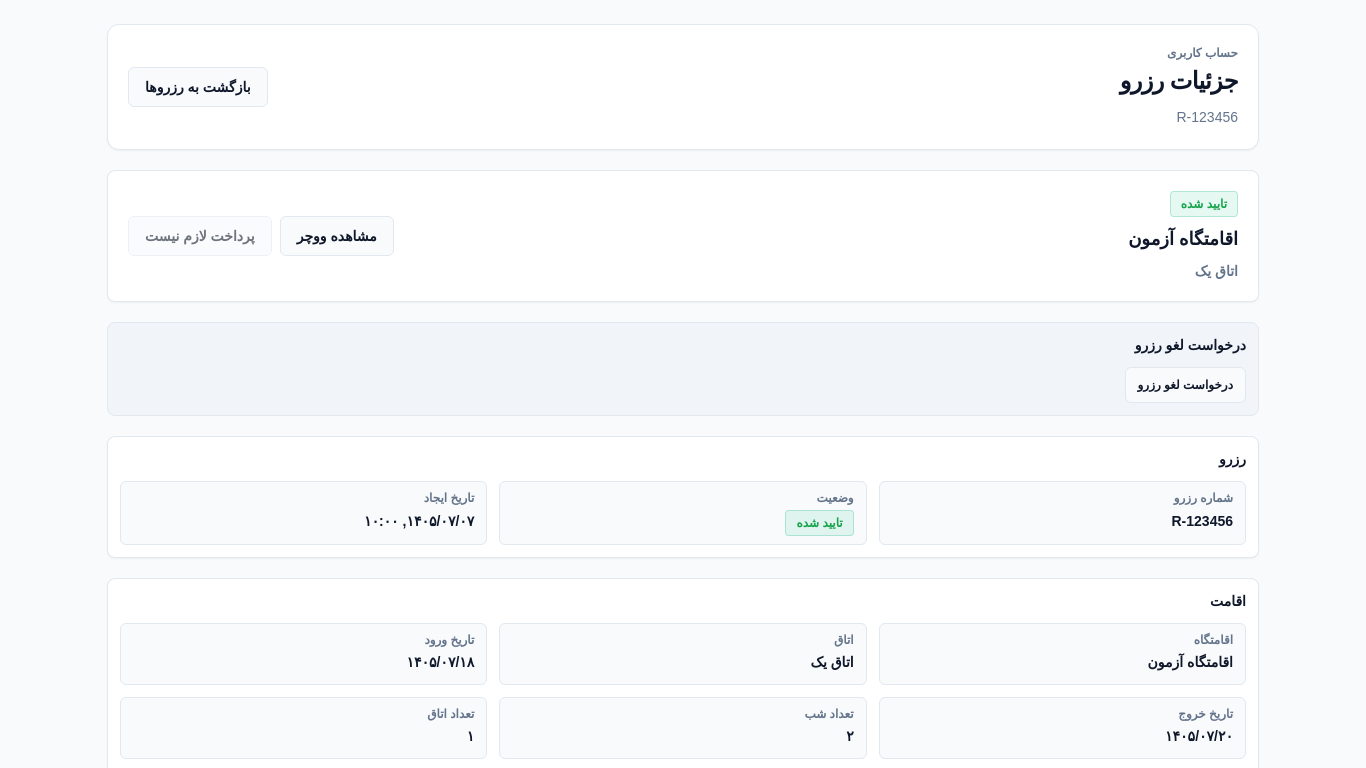
Scenario: Guest cancellation request in existing reservation details › submits an empty optional message as null
The image size is (1366, 768).
Click the button "درخواست لغو رزرو" at (1185, 385), box x1=1125 y1=367 x2=1246 y2=403
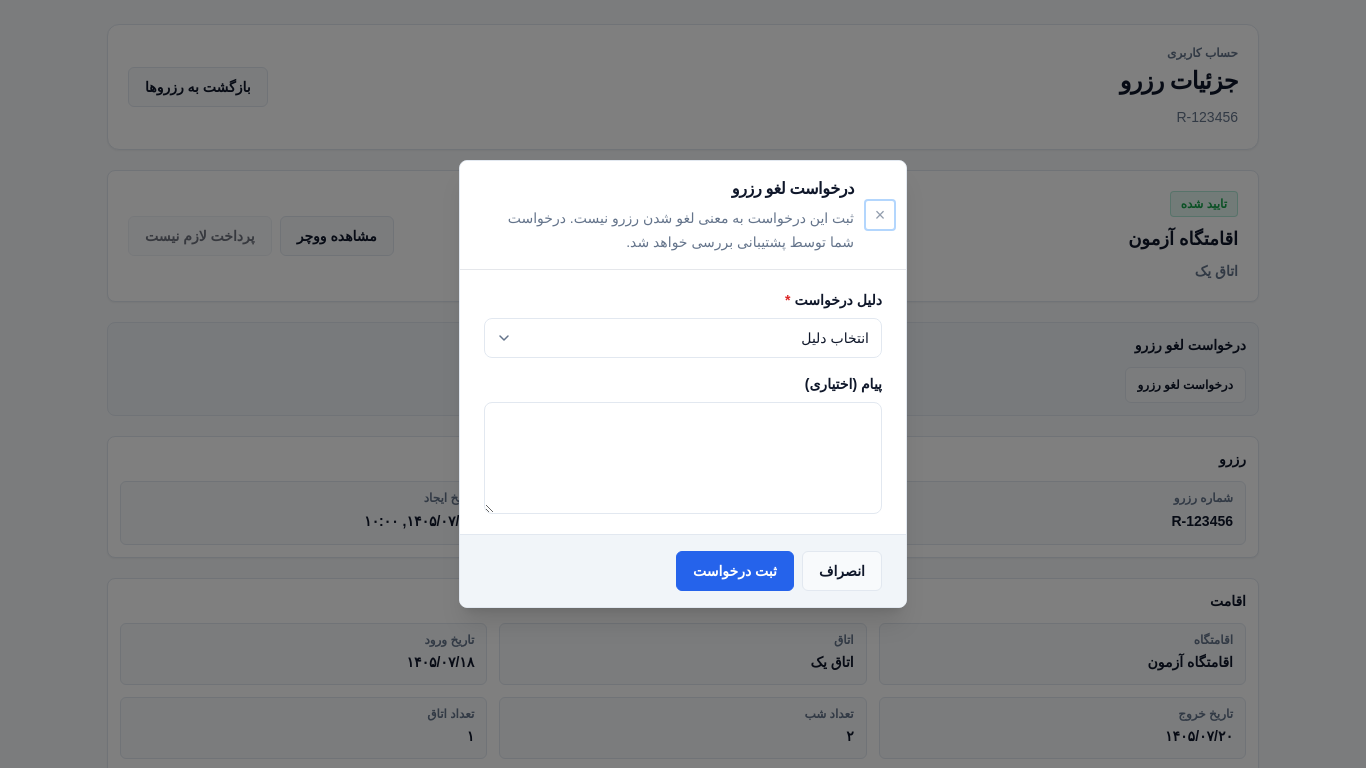
Select "سایر" in the dropdown labelled "دلیل درخواست*" at (683, 338), box x1=484 y1=318 x2=882 y2=358
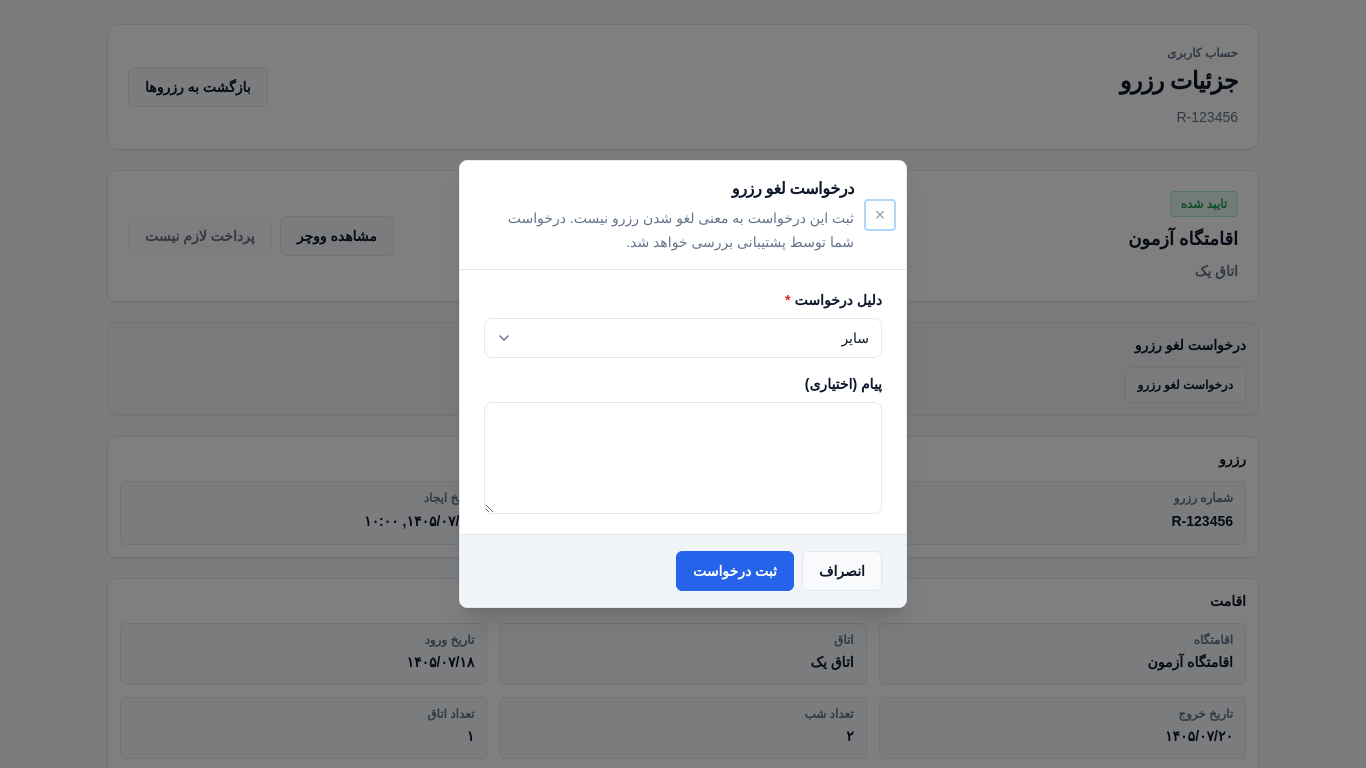
Click the button "ثبت درخواست" at (735, 571), box x1=676 y1=551 x2=794 y2=591
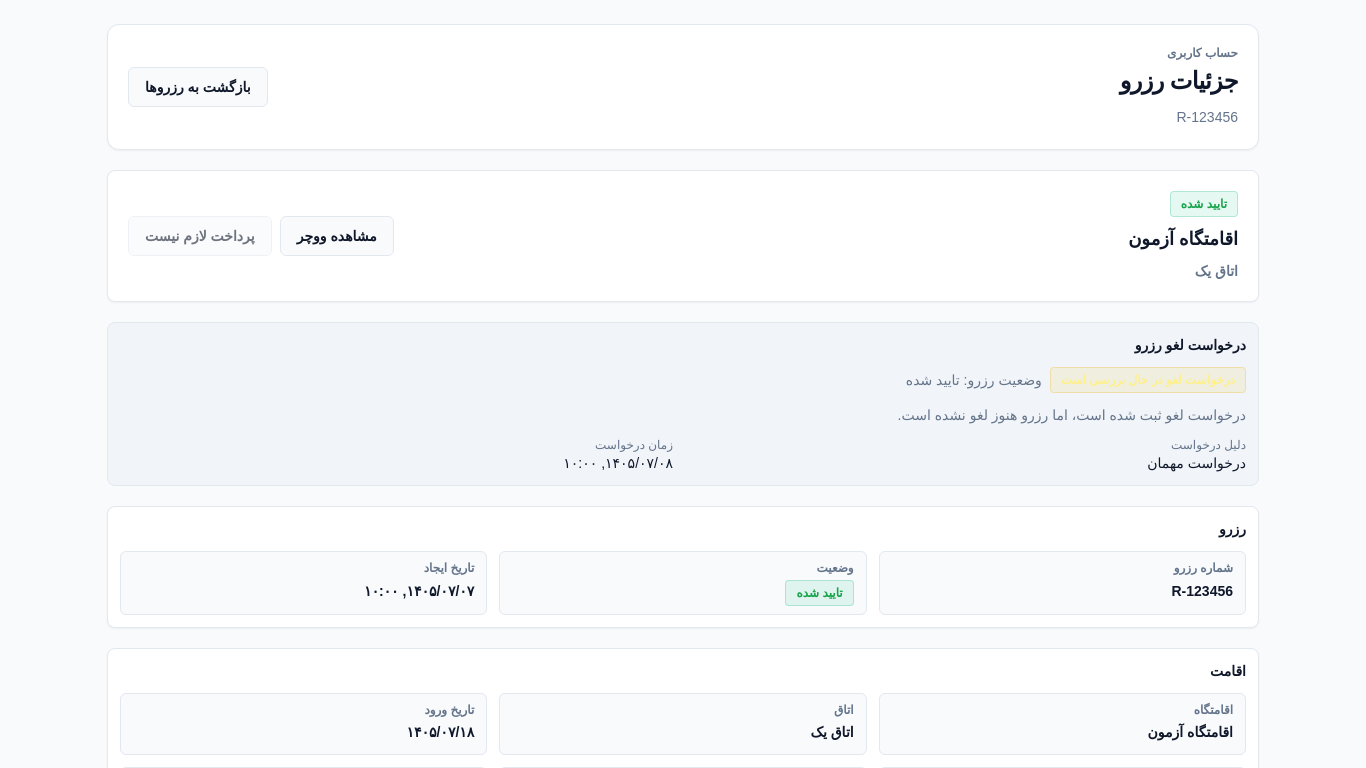
Expected: the text "درخواست لغو در حال بررسی است" is shown, x1=1050 y1=367 x2=1246 y2=393
